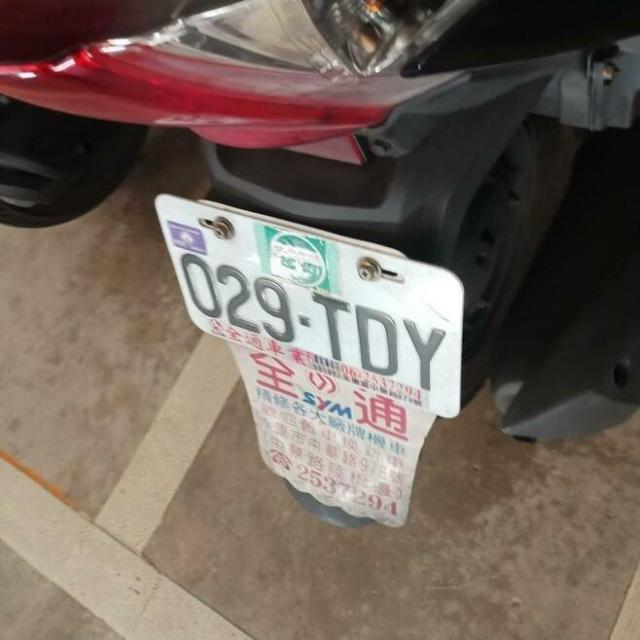W: (145, 175, 485, 453)
